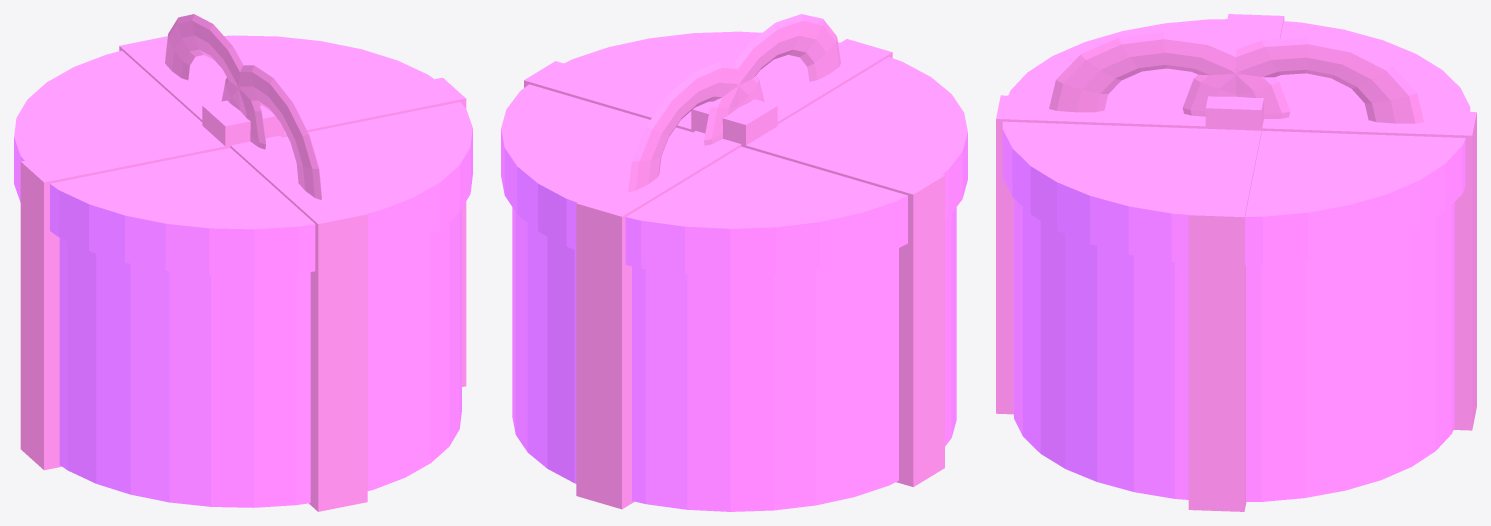
The model's file is Tmpl_Round_Root_209.glb.
3 views of the same model, side by side, from view 1: azimuth 30°, elevation 25°; view 2: azimuth 150°, elevation 25°; view 3: azimuth 270°, elevation 25° (orthographic). The views are drawn at different scales.
Visible parts, largest first — view 1: Tmpl_Round_Base.207, Tmpl_Round_Lid.207, Tmpl_Round_Ribbon_X.207, Tmpl_Round_Ribbon_Y.207, Tmpl_Round_BowL.207, Tmpl_Round_BowR.207, Tmpl_Round_BowKnot.207; view 2: Tmpl_Round_Base.207, Tmpl_Round_Lid.207, Tmpl_Round_Ribbon_X.207, Tmpl_Round_Ribbon_Y.207, Tmpl_Round_BowR.207, Tmpl_Round_BowL.207, Tmpl_Round_BowKnot.207; view 3: Tmpl_Round_Base.207, Tmpl_Round_Lid.207, Tmpl_Round_Ribbon_Y.207, Tmpl_Round_Ribbon_X.207, Tmpl_Round_BowR.207, Tmpl_Round_BowL.207, Tmpl_Round_BowKnot.207.
Part boxes in pixels (<box>): Tmpl_Round_Base.207: <box>59,209,461,507</box>; Tmpl_Round_Lid.207: <box>14,35,472,276</box>; Tmpl_Round_Ribbon_X.207: <box>119,36,367,511</box>; Tmpl_Round_Ribbon_Y.207: <box>20,77,466,470</box>; Tmpl_Round_BowL.207: <box>165,14,265,149</box>; Tmpl_Round_BowR.207: <box>221,65,321,199</box>; Tmpl_Round_BowKnot.207: <box>202,100,284,148</box>; Tmpl_Round_Base.207: <box>512,207,956,511</box>; Tmpl_Round_Lid.207: <box>501,31,967,276</box>; Tmpl_Round_Ribbon_X.207: <box>576,39,892,509</box>; Tmpl_Round_Ribbon_Y.207: <box>524,61,944,487</box>; Tmpl_Round_BowR.207: <box>704,14,840,145</box>; Tmpl_Round_BowL.207: <box>628,61,764,192</box>; Tmpl_Round_BowKnot.207: <box>691,99,777,147</box>; Tmpl_Round_Base.207: <box>1013,198,1454,501</box>; Tmpl_Round_Lid.207: <box>1002,19,1470,265</box>; Tmpl_Round_Ribbon_Y.207: <box>1188,14,1284,511</box>; Tmpl_Round_Ribbon_X.207: <box>996,95,1476,430</box>; Tmpl_Round_BowR.207: <box>1049,32,1290,118</box>; Tmpl_Round_BowL.207: <box>1182,37,1423,123</box>; Tmpl_Round_BowKnot.207: <box>1205,96,1263,130</box>.
Size of the model in its own units: 0.8982 by 0.7742 by 0.8982.
